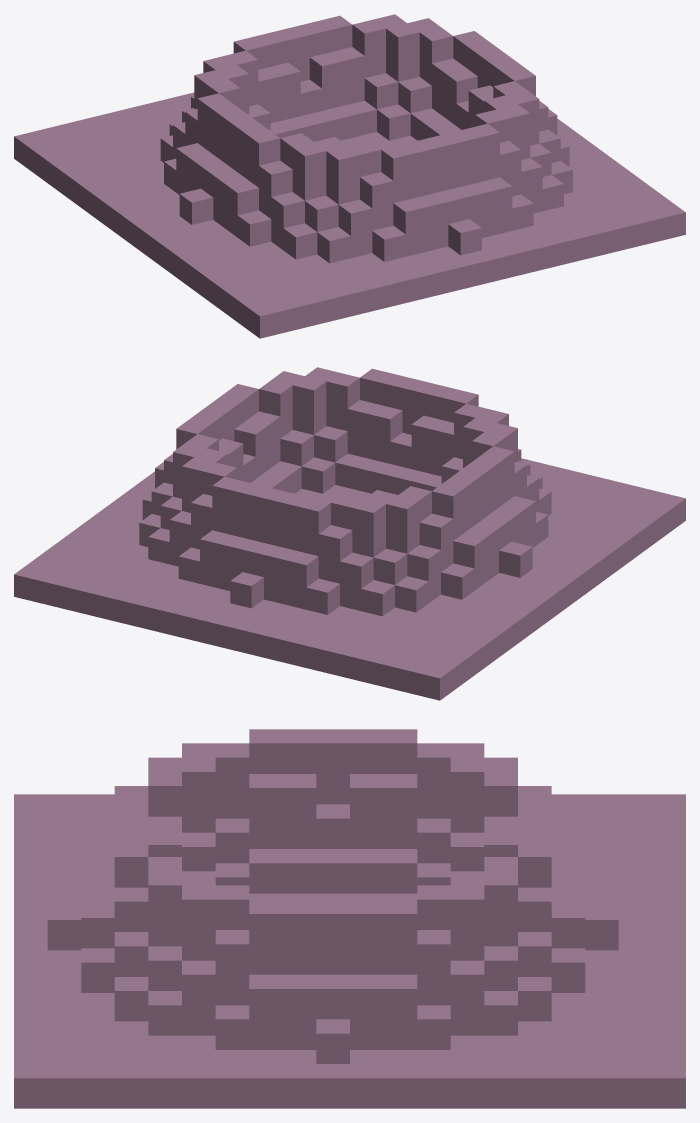
Rendered from alien-biosphere-crater-tile-a03a4704__22757.glb.
3 views of the same model, one above another, from view 1: azimuth 30°, elevation 25°; view 2: azimuth 150°, elevation 25°; view 3: azimuth 270°, elevation 25° (orthographic). The views are drawn at different scales.
Parts seen in each view (by area): view 1: crater-tile; view 2: crater-tile; view 3: crater-tile.
Part boxes in pixels (box(x1,y1,x2,y2)): crater-tile: box(14, 14, 685, 338); crater-tile: box(14, 367, 685, 700); crater-tile: box(14, 729, 685, 1108).
Bounding box in the file's own units: 4 × 1 × 4.
